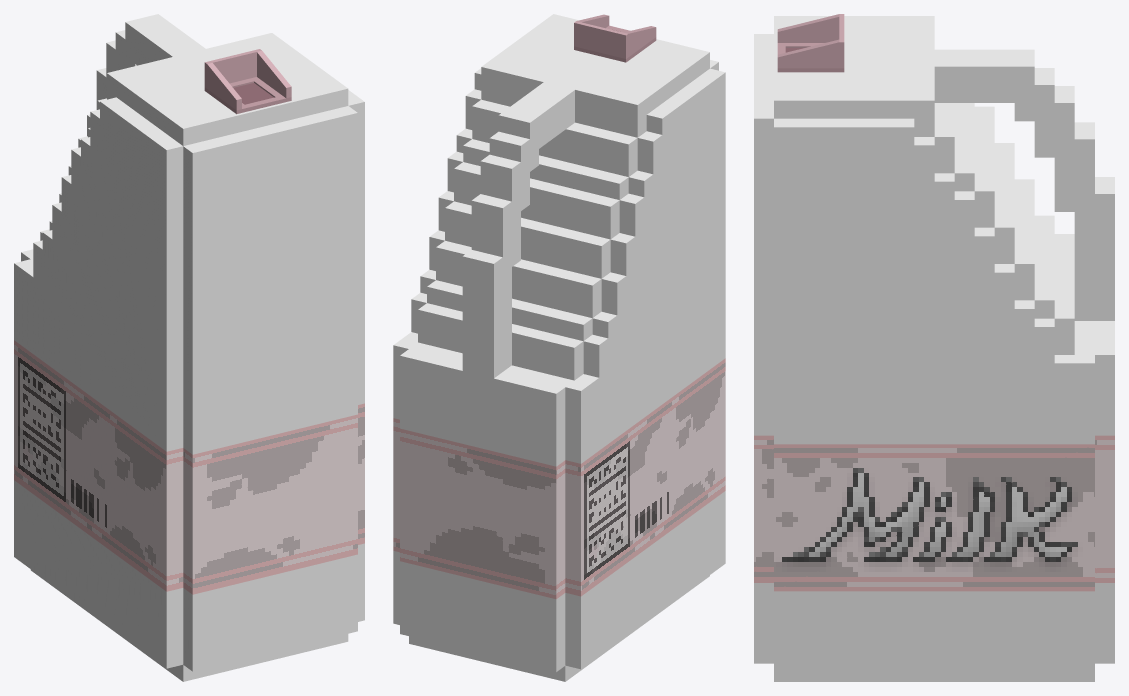
The model's file is milk_alt.fbx.
The picture shows the model from 3 angles, left to right: view 1: azimuth 30°, elevation 25°; view 2: azimuth 150°, elevation 25°; view 3: azimuth 270°, elevation 25°; orthographic projection. The views are drawn at different scales.
Parts seen in each view (by area): view 1: MilkCarton; view 2: MilkCarton; view 3: MilkCarton.
Boxes of the visible parts, left/top/right/bottom form: MilkCarton: left=14, top=14, right=364, bottom=681; MilkCarton: left=393, top=14, right=725, bottom=681; MilkCarton: left=754, top=14, right=1114, bottom=681.
Bounding box in the file's own units: 120 × 336 × 180.
Materials: 1 (1 with a texture image).
